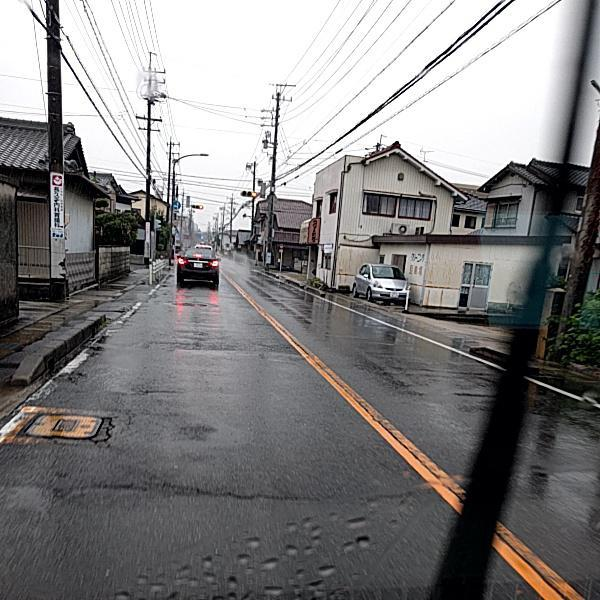D10: (82, 480, 347, 505), (348, 485, 424, 507)
D44: (50, 349, 116, 397)
